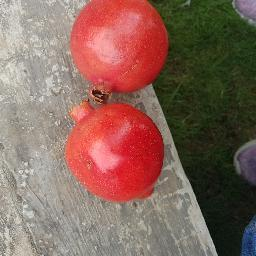Good_pomegranate: (52, 104, 173, 209), (61, 1, 176, 99)
